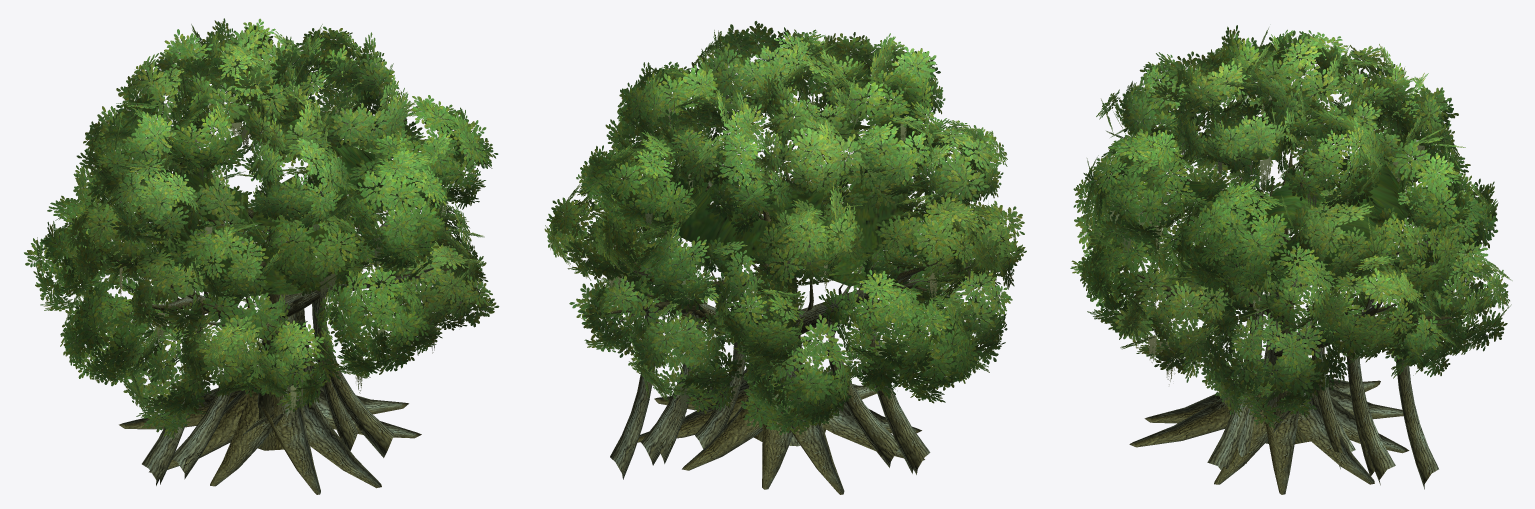
The model's file is mm6_deco_swptree3.glb.
3 renders of one model, left to right at view 1: azimuth 30°, elevation 25°; view 2: azimuth 150°, elevation 25°; view 3: azimuth 270°, elevation 25°, orthographic. The views are drawn at different scales.
Visible parts, largest first — view 1: Tree; view 2: Tree; view 3: Tree.
Boxes of the visible parts, left/top/right/bottom form: Tree: left=24, top=18, right=499, bottom=494; Tree: left=544, top=21, right=1026, bottom=494; Tree: left=1070, top=25, right=1512, bottom=494.
Size of the model in its own units: 4.24 by 4.02 by 4.23.
Materials: 4 (4 with a texture image).
